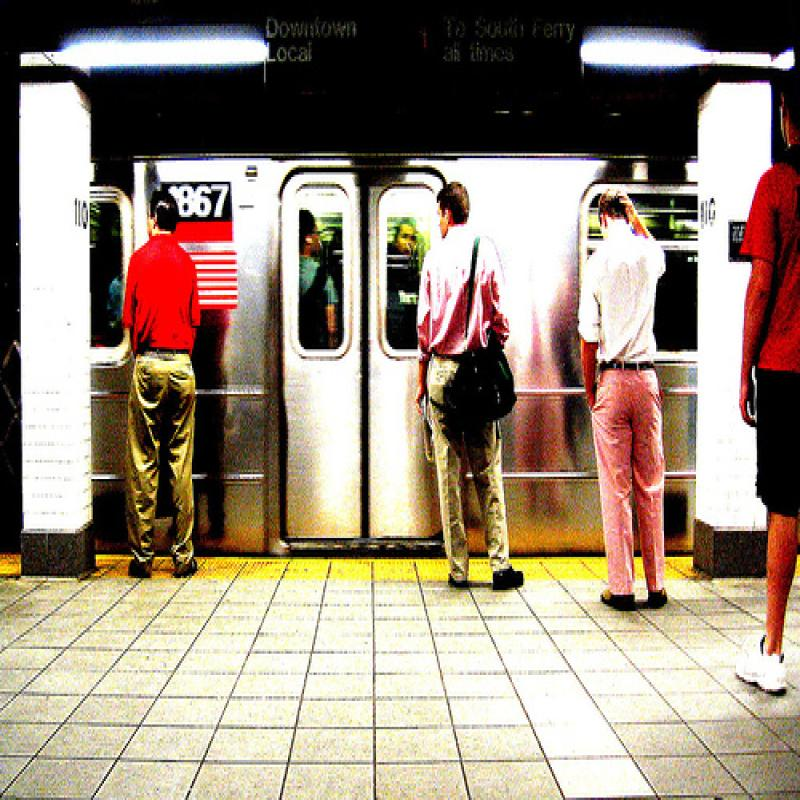train: (91, 150, 700, 556)
